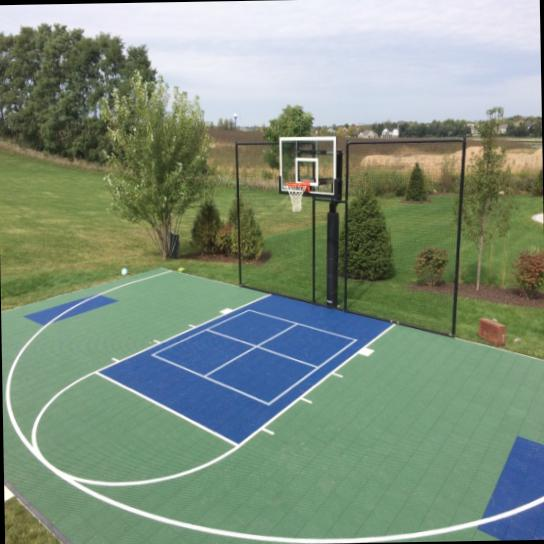basketball-hoop: (283, 180, 308, 214)
